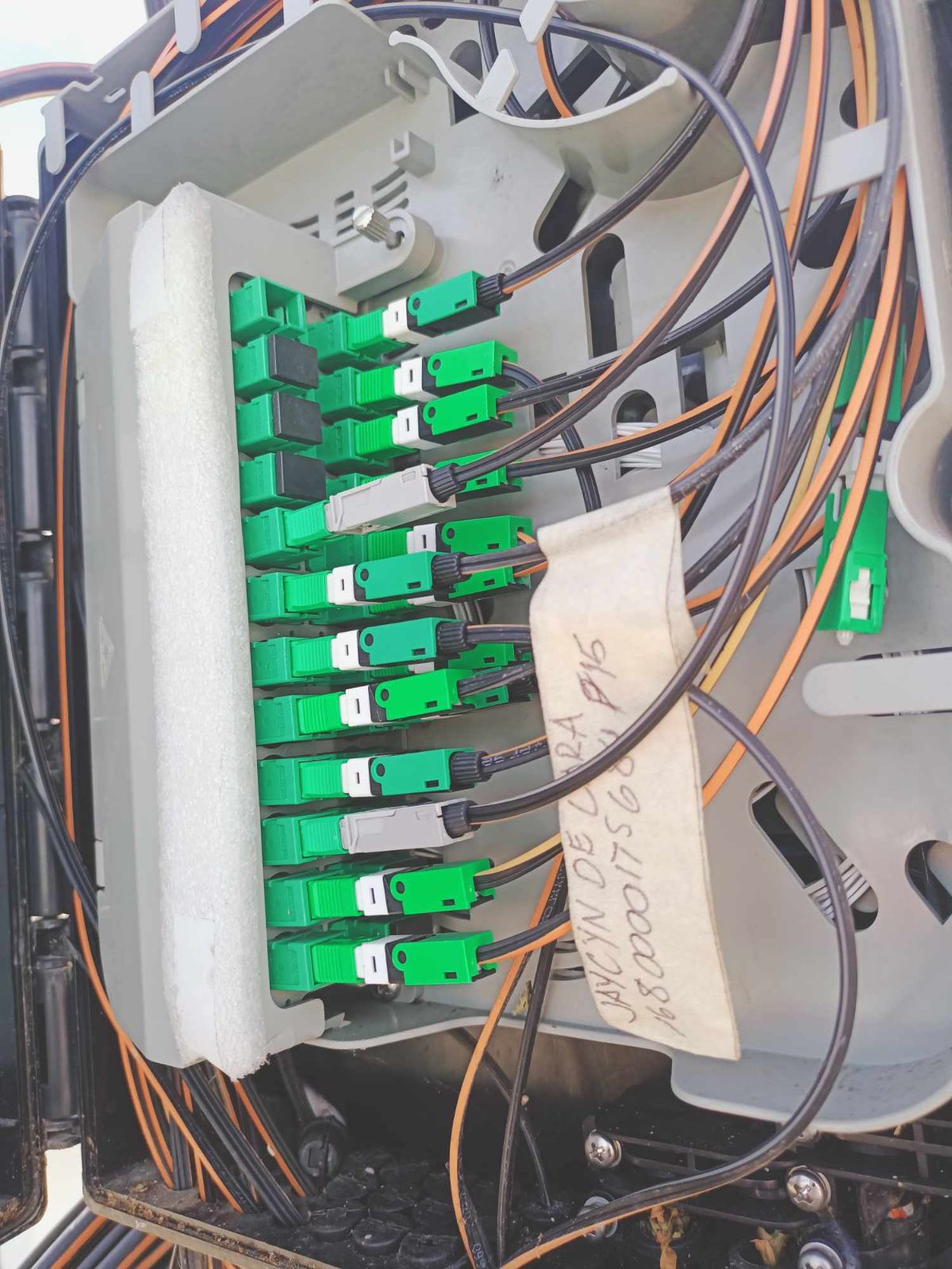no dust cap: (261, 278, 307, 331)
occupied: (284, 455, 462, 552), (349, 259, 512, 359), (353, 381, 519, 458), (295, 669, 469, 737), (284, 547, 458, 615), (291, 613, 464, 681), (355, 333, 520, 404), (302, 862, 496, 921), (309, 931, 502, 990), (370, 545, 532, 615), (297, 794, 490, 852), (298, 740, 491, 798), (361, 446, 525, 512), (377, 661, 536, 726), (369, 512, 538, 567), (373, 636, 518, 674)
vacant: (375, 794, 426, 853), (373, 740, 424, 799), (384, 853, 435, 912), (386, 912, 437, 971), (268, 335, 318, 384), (273, 394, 323, 443), (274, 453, 324, 501)
